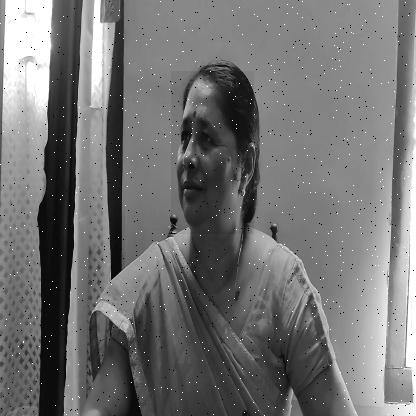Distracted: (171, 71, 254, 234)
